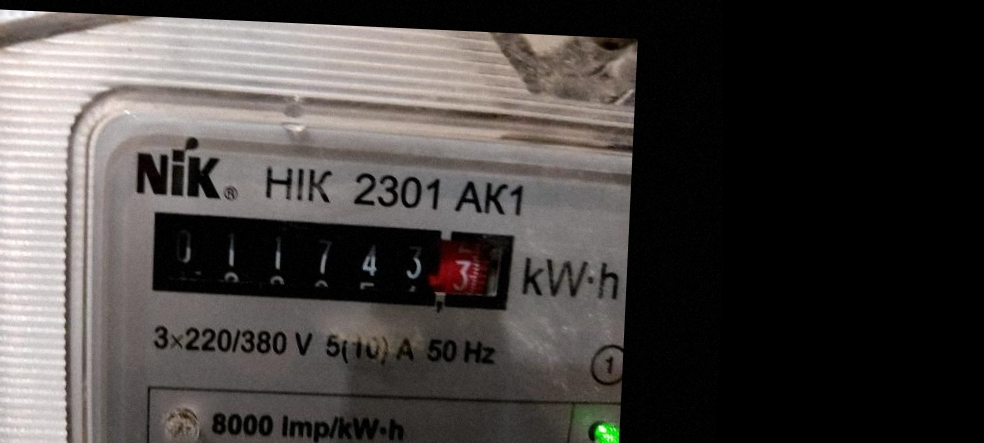0: (171, 226, 195, 266), (221, 227, 241, 269)
1: (268, 231, 286, 272)
3: (402, 240, 424, 284), (450, 255, 472, 294)
4: (358, 238, 379, 279)
7: (311, 233, 336, 278)
screen: (130, 197, 523, 322)
